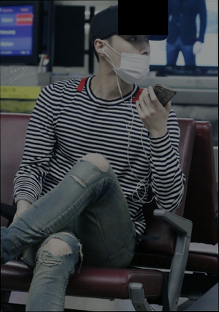mask_weared_incorrect: (103, 33, 151, 85)
